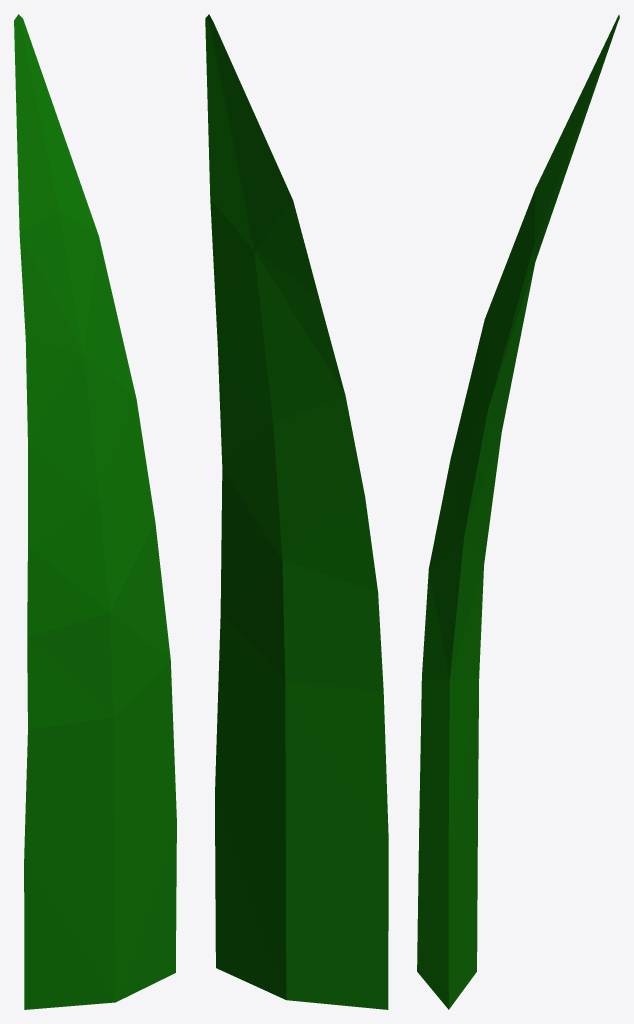
Rendered from stm_prop_grass _wall_20deg.fbx.
The picture shows the model from 3 angles, left to right: view 1: azimuth 30°, elevation 25°; view 2: azimuth 150°, elevation 25°; view 3: azimuth 270°, elevation 25°; orthographic projection. The views are drawn at different scales.
Visible parts, largest first — view 1: Loft; view 2: Loft; view 3: Loft.
Part boxes in pixels (x1,y1,x2,y2): Loft: [14, 14, 176, 1009]; Loft: [205, 14, 388, 1009]; Loft: [417, 14, 619, 1009].
Size of the model in its own units: 188 by 1077 by 207.
